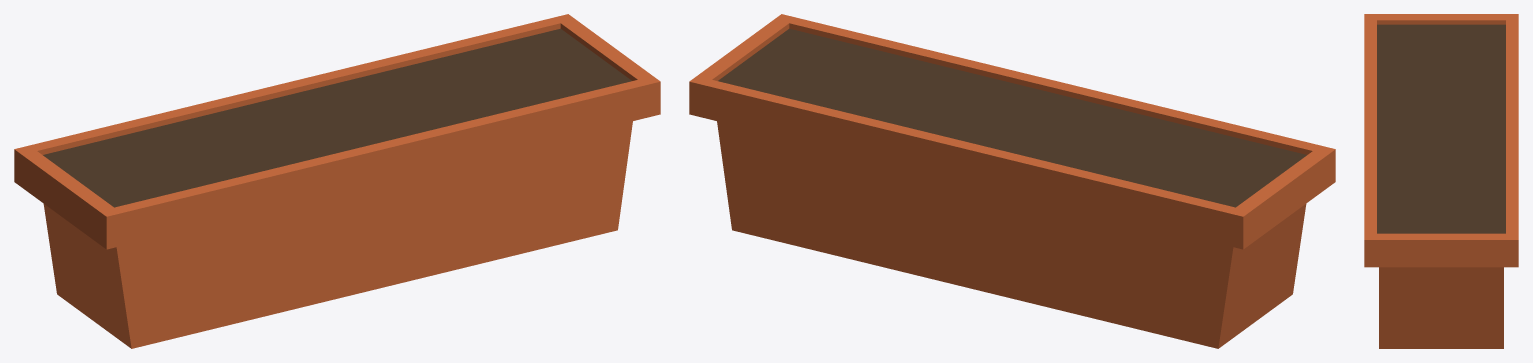
Rendered from SM_flowerbox_empty_03.fbx.
3 renders of one model, left to right at view 1: azimuth 30°, elevation 25°; view 2: azimuth 150°, elevation 25°; view 3: azimuth 270°, elevation 25°, orthographic. The views are drawn at different scales.
Visible parts, largest first — view 1: Box123; view 2: Box123; view 3: Box123.
Part boxes in pixels (bbox=[...]): Box123: bbox=[14, 14, 660, 348]; Box123: bbox=[689, 14, 1335, 348]; Box123: bbox=[1364, 14, 1518, 348].
Bounding box in the file's own units: 27.7 × 8 × 7.02.
